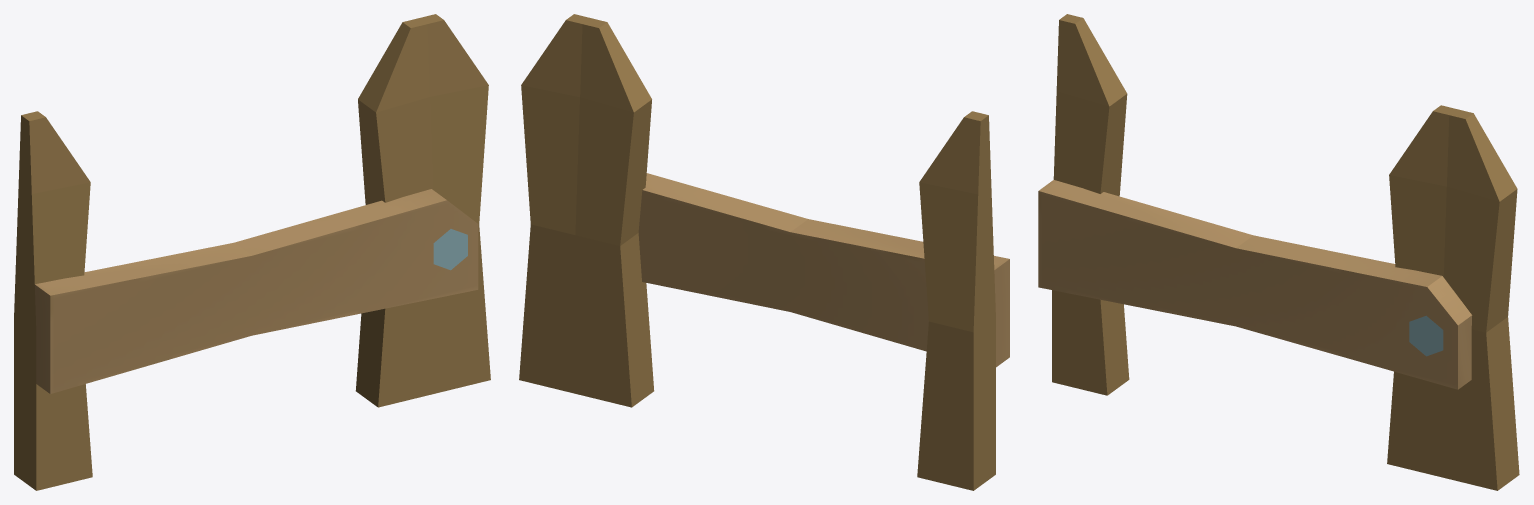
The model's file is Cit4.fbx.
3 views of the same model, side by side, from view 1: azimuth 30°, elevation 25°; view 2: azimuth 150°, elevation 25°; view 3: azimuth 330°, elevation 25° (orthographic). The views are drawn at different scales.
Visible parts, largest first — view 1: Cit4; view 2: Cit4; view 3: Cit4.
Part boxes in pixels (x1,y1,x2,y2): Cit4: (14, 14, 490, 490); Cit4: (519, 14, 1009, 490); Cit4: (1038, 14, 1519, 490).
Bounding box in the file's own units: 91.34 × 70 × 13.46.
1 material, 1 textured.
